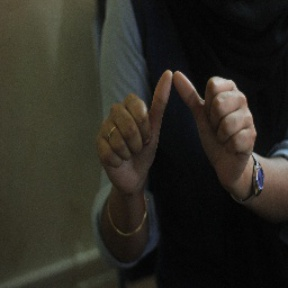A: (103, 66, 256, 174)
